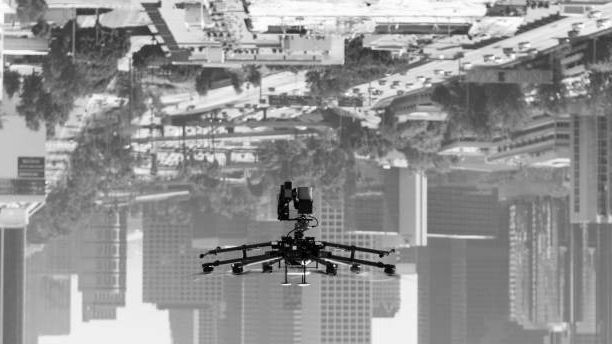Drone: (196, 180, 403, 291)
